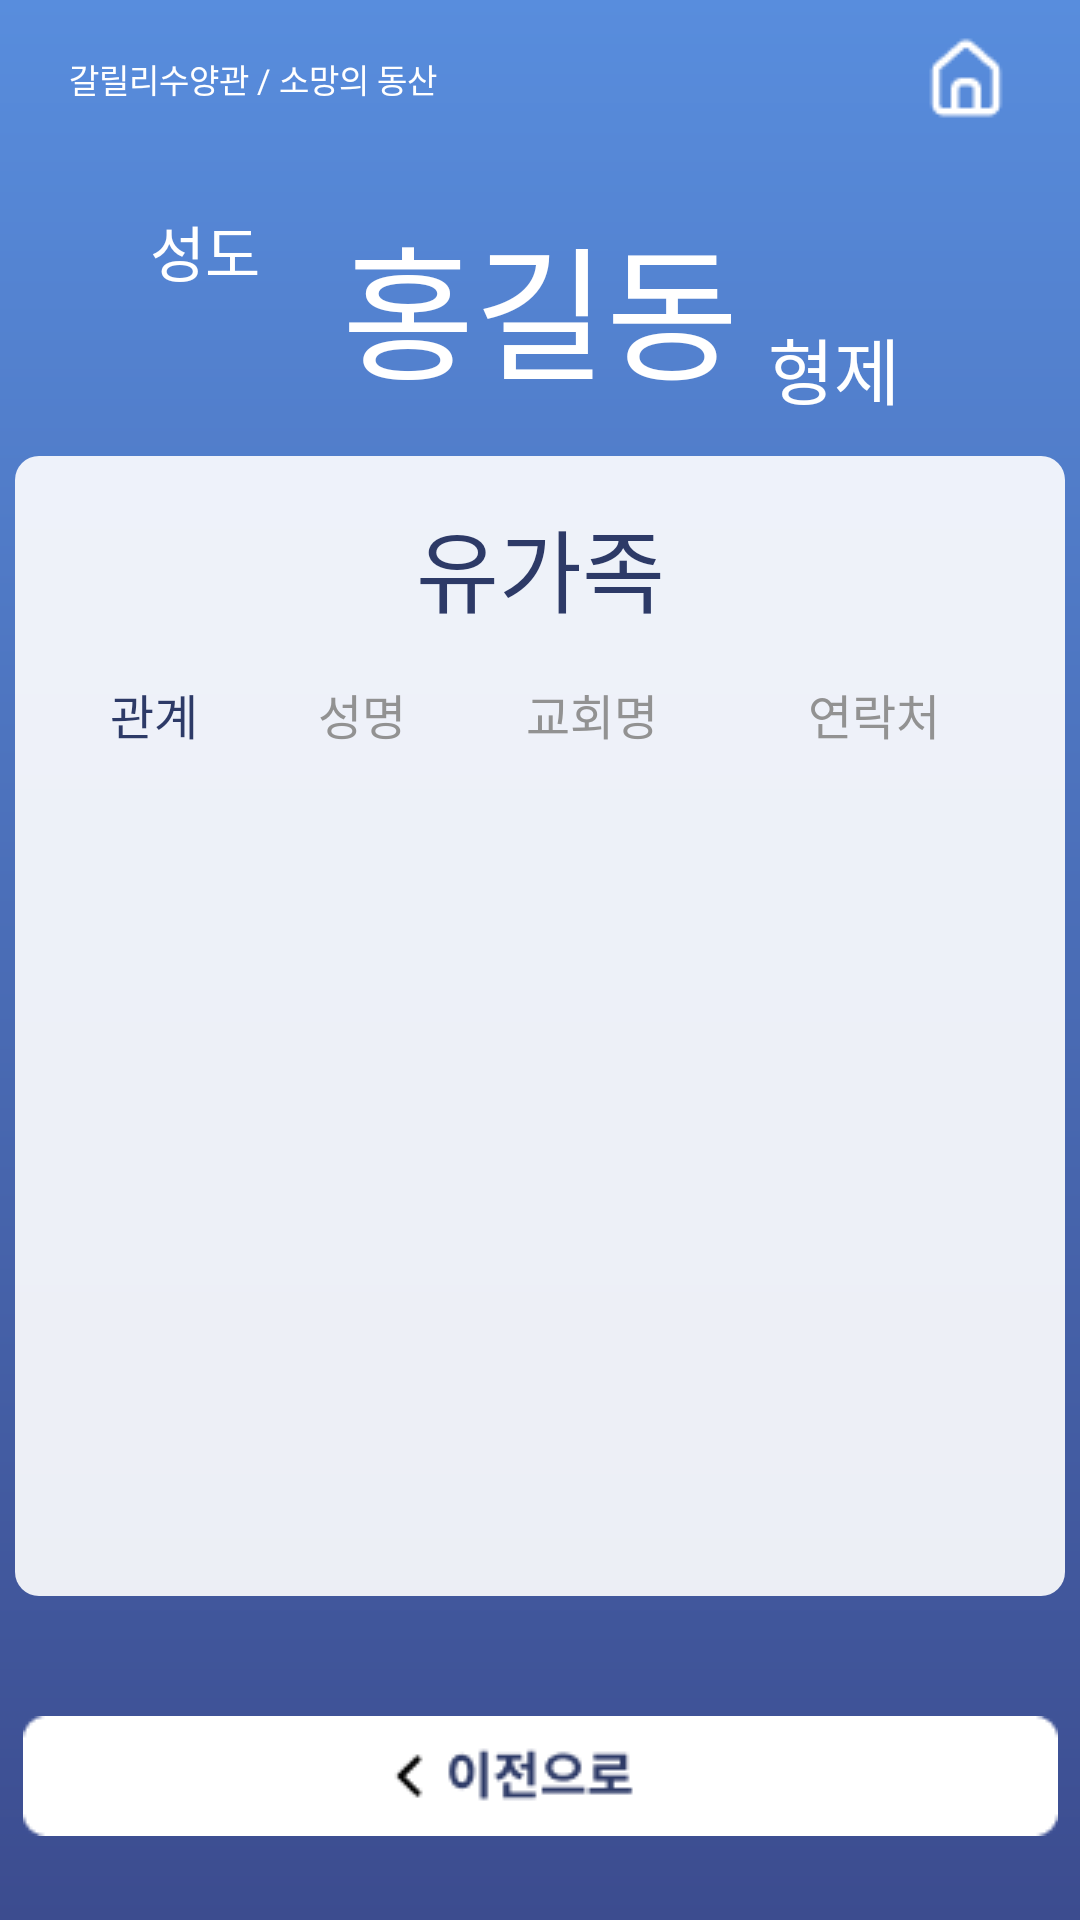

Where icons sit on this 1080 x 1920 app screen, as Rect(x1, y1, x2, y2):
home: Rect(930, 38, 1002, 118)
